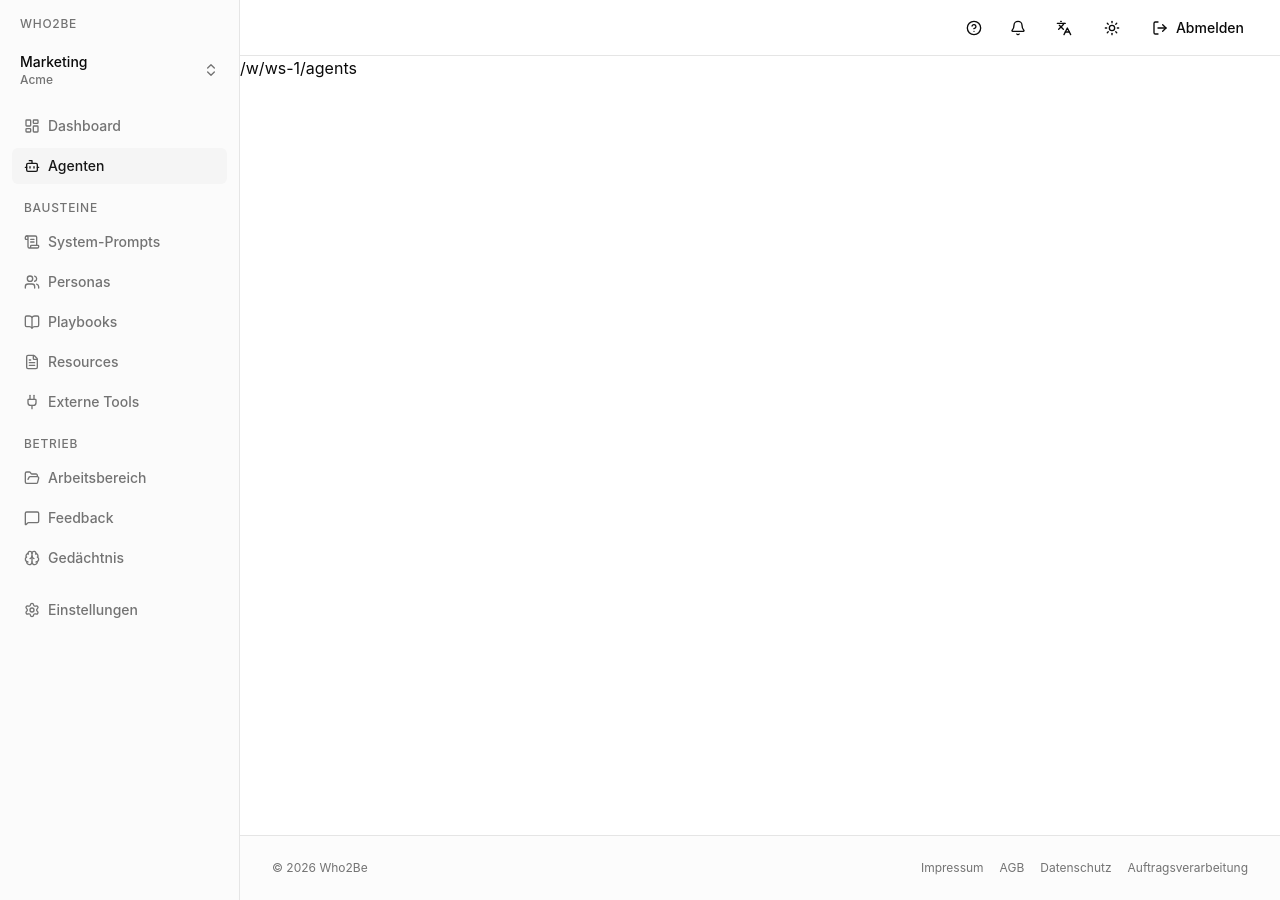
Scenario: HelpMenu › startet die Einführung ohne Rückfrage neu, solange nichts begonnen ist
Press Enter in the button named "Hilfe und Neuigkeiten", box [956, 10, 992, 46]
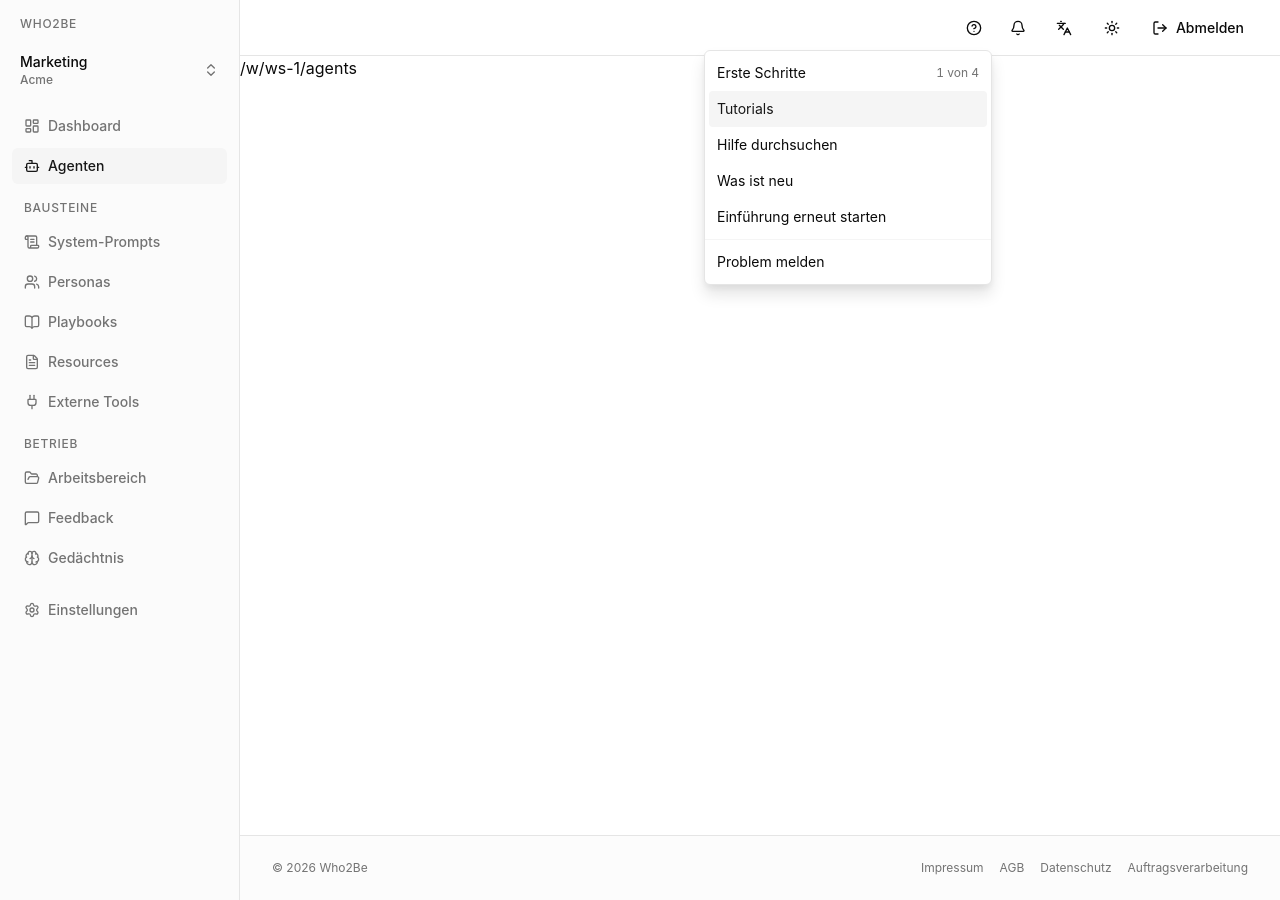
Click the menu item "Einführung erneut starten" at (802, 216), box [717, 208, 886, 225]
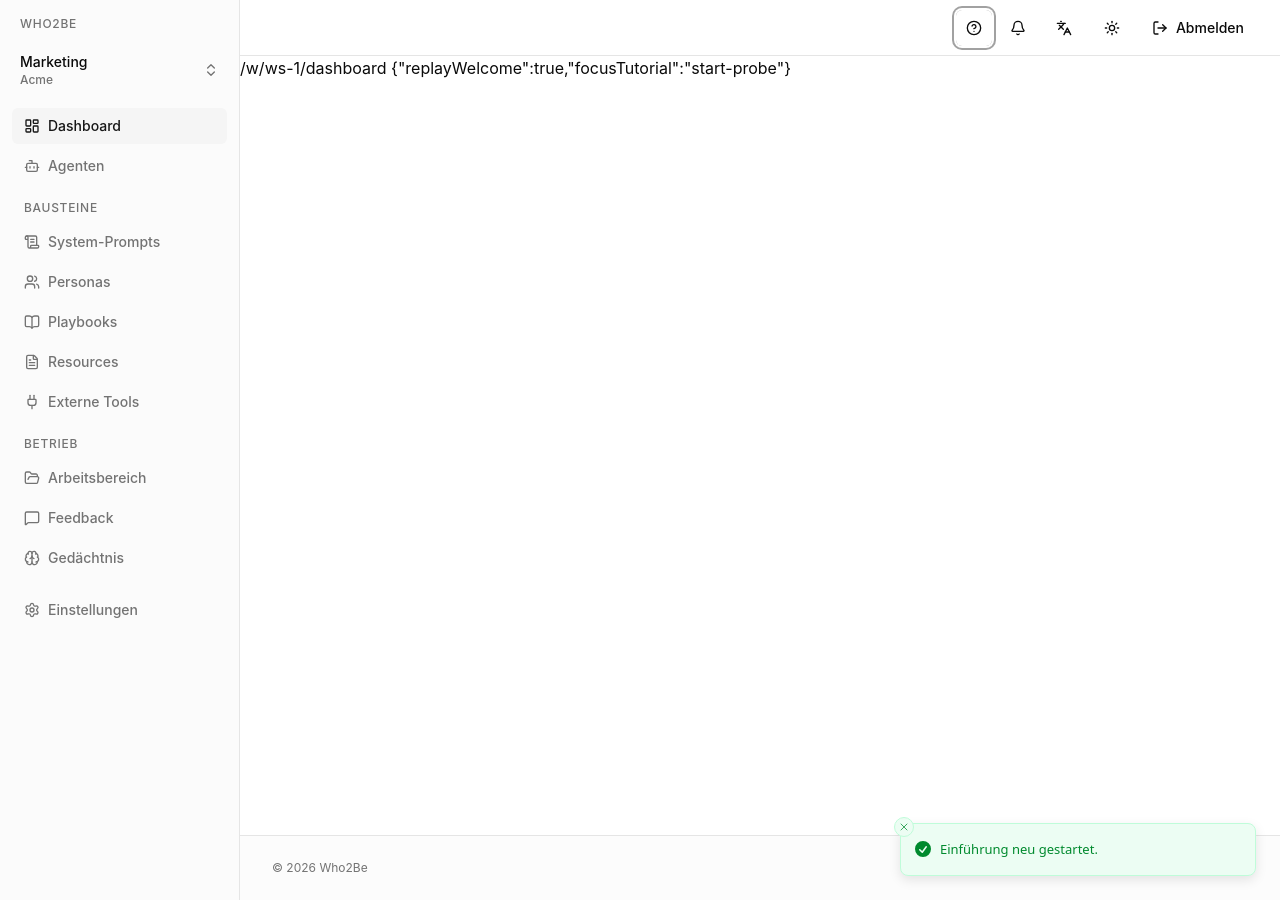
Now the text with test id "location" reads "/w/ws-1/dashboard {\"replayWelcome\":true,\"focusTutorial\":\"start-probe\"}", box [240, 58, 791, 78]
